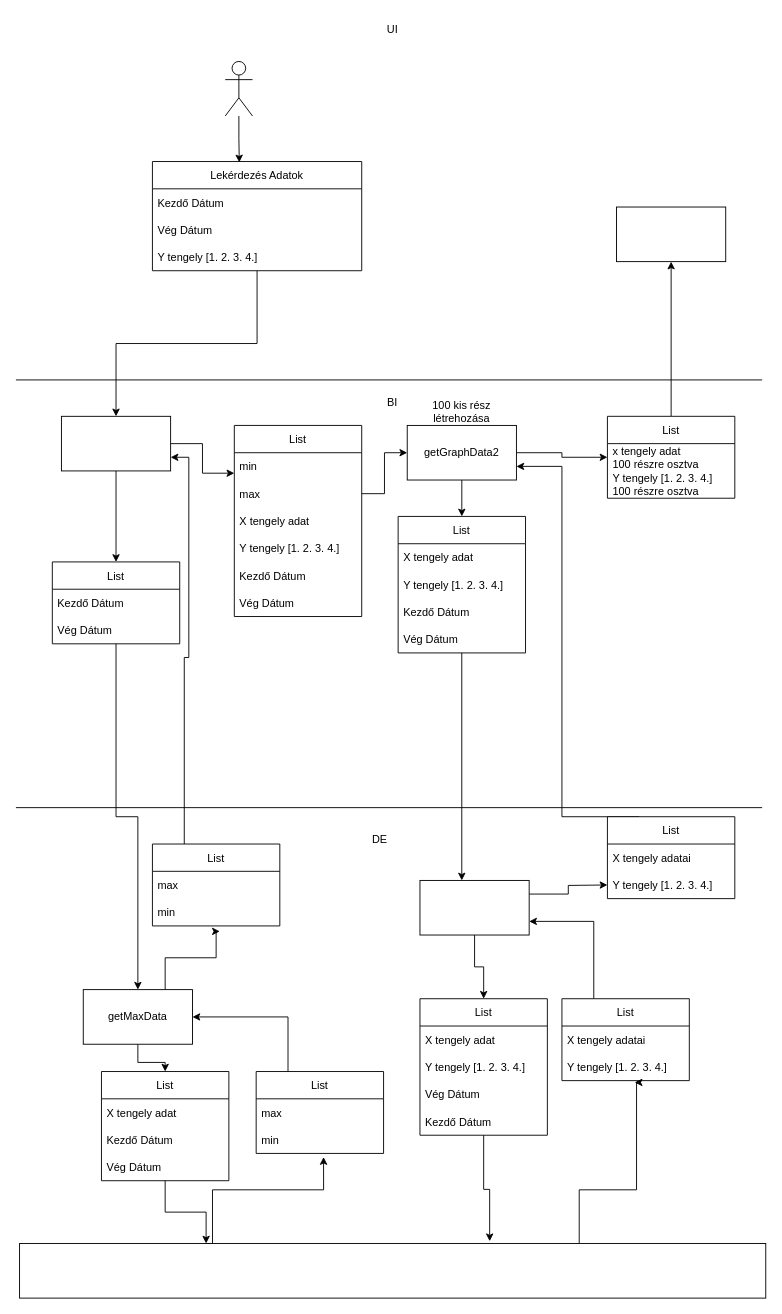
Some shapes in this 782 by 1314 pixel diagram are drawn without their labels. The shapes that lost their labels are listed below. From the top down, each one's centre as x and y in pixels, then its label:
the point at 238,88: Felhasználó
the point at 671,234: Graph Előálító
the point at 116,443: getGraphData1
the point at 474,907: getDataFromJson
the point at 392,1270: Json adatbázis
